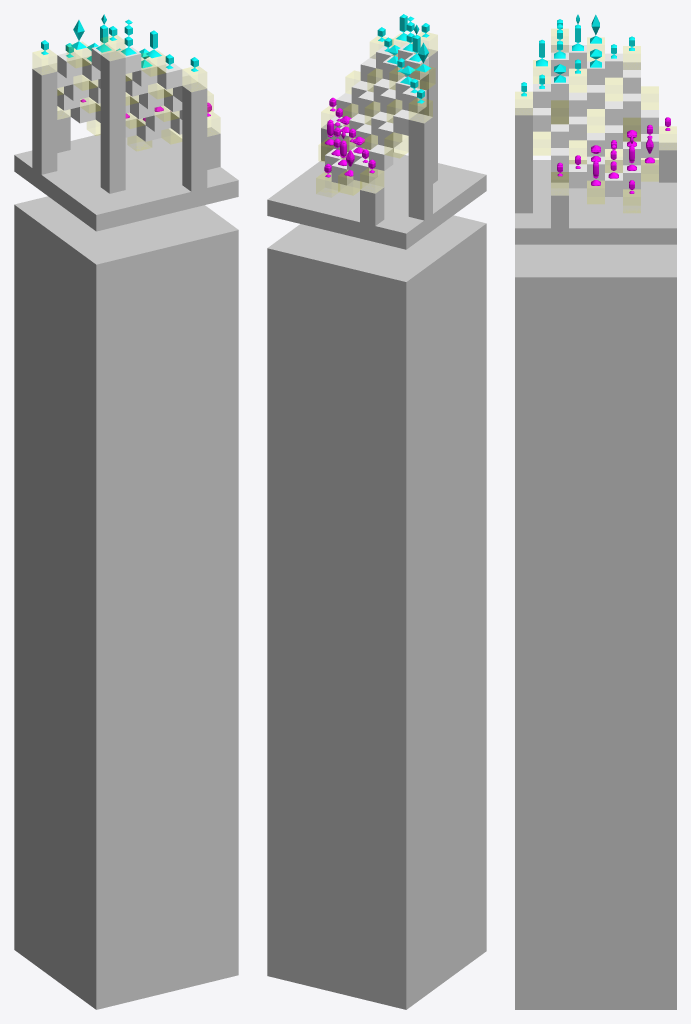
File: Training Camp  3.fbx
The picture shows the model from 3 angles, left to right: view 1: azimuth 30°, elevation 25°; view 2: azimuth 150°, elevation 25°; view 3: azimuth 270°, elevation 25°; orthographic projection. The views are drawn at different scales.
Visible parts, largest first — view 1: Cubo_3_2, Cubo_2_3, Cubo_2, Cubo_3, Cubo_2_2, Cubo_17, Cubo_19, Cubo_5, Cubo_4; view 2: Cubo_3_2, Cubo_2_3, Cubo_3, Cubo_2, Cubo_5, Cubo_1_2; view 3: Cubo_3_2, Cubo_2_3, Cubo_2_2, Cubo_2, Cubo_4, Cubo_5, Cubo_3, Cubo_12, Cubo_4_2, Cubo_6, Cubo_3_4, Cubo_4_3 (+11 smaller).
Boxes of the visible parts, box(x1,y1,x2,y2) form: Cubo_3_2: box(14, 196, 238, 1009); Cubo_2_3: box(14, 128, 238, 231); Cubo_2: box(100, 51, 125, 193); Cubo_3: box(32, 65, 57, 174); Cubo_2_2: box(182, 82, 207, 191); Cubo_17: box(157, 63, 182, 89); Cubo_19: box(57, 52, 82, 78); Cubo_5: box(57, 110, 70, 152); Cubo_4: box(207, 127, 220, 169); Cubo_3_2: box(267, 215, 486, 1009); Cubo_2_3: box(267, 152, 486, 249); Cubo_3: box(408, 113, 432, 220); Cubo_2: box(414, 48, 437, 183); Cubo_5: box(360, 183, 384, 225); Cubo_1_2: box(369, 144, 393, 170); Cubo_3_2: box(515, 244, 676, 1009); Cubo_2_3: box(515, 160, 676, 244); Cubo_2_2: box(515, 108, 532, 213); Cubo_2: box(551, 45, 568, 182); Cubo_4: box(551, 188, 568, 228); Cubo_5: box(659, 142, 676, 182); Cubo_3: box(623, 62, 640, 141); Cubo_12: box(623, 93, 640, 117); Cubo_4_2: box(569, 116, 586, 140); Cubo_6: box(605, 101, 622, 125); Cubo_3_4: box(569, 92, 586, 116); Cubo_4_3: box(569, 164, 586, 188).
Bounding box in the file's own units: 900 × 5814 × 900.
